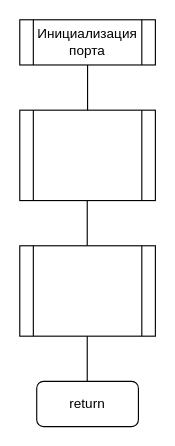
This 175x446 diagram has some shape labels left out. The centre of each missing label's shape, as x and y in pixels:
"получение кликов и обработка их на номера" belongs at [87,155].
"получение номеров и обработка их в буквы" belongs at [87,290].
